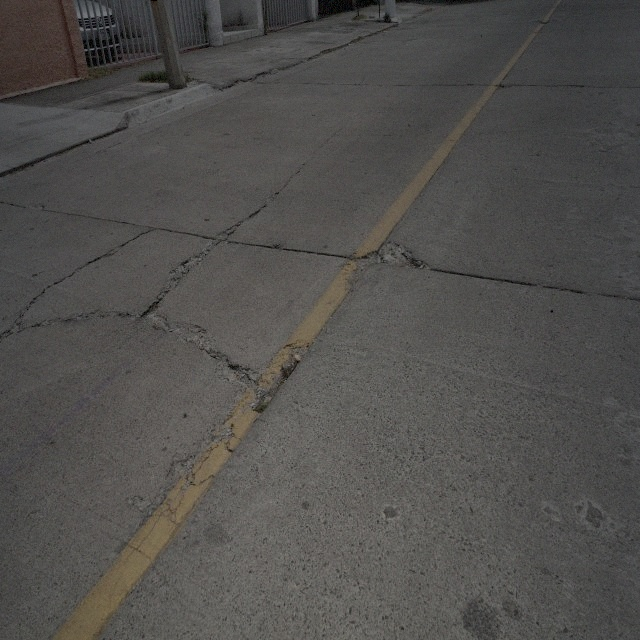pothole: (356, 234, 426, 284), (260, 342, 310, 408), (166, 238, 217, 290), (214, 347, 256, 388), (171, 315, 209, 355), (142, 297, 158, 325)
